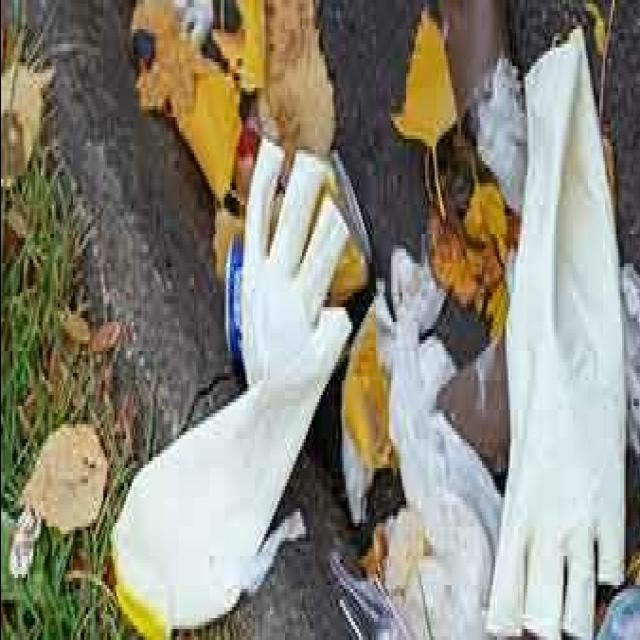b3: (69, 40, 636, 640)
